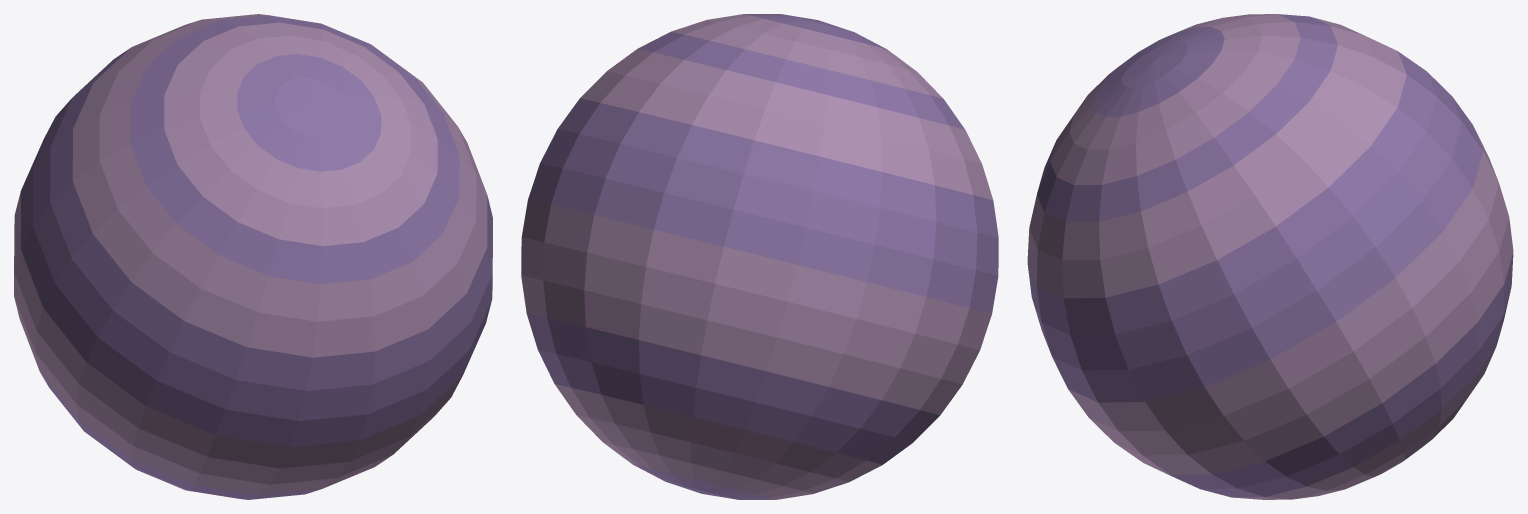
The model's file is Isl_19_Planet_1.fbx.
3 renders of one model, left to right at view 1: azimuth 30°, elevation 25°; view 2: azimuth 150°, elevation 25°; view 3: azimuth 270°, elevation 25°, orthographic.
Visible parts, largest first — view 1: Isl_19_Planet_1; view 2: Isl_19_Planet_1; view 3: Isl_19_Planet_1.
Part boxes in pixels (bbox=[...]): Isl_19_Planet_1: bbox=[14, 14, 492, 499]; Isl_19_Planet_1: bbox=[521, 14, 998, 499]; Isl_19_Planet_1: bbox=[1027, 14, 1513, 499].
Bounding box in the file's own units: 566 × 566 × 569.
Materials: 1 (1 with a texture image).
